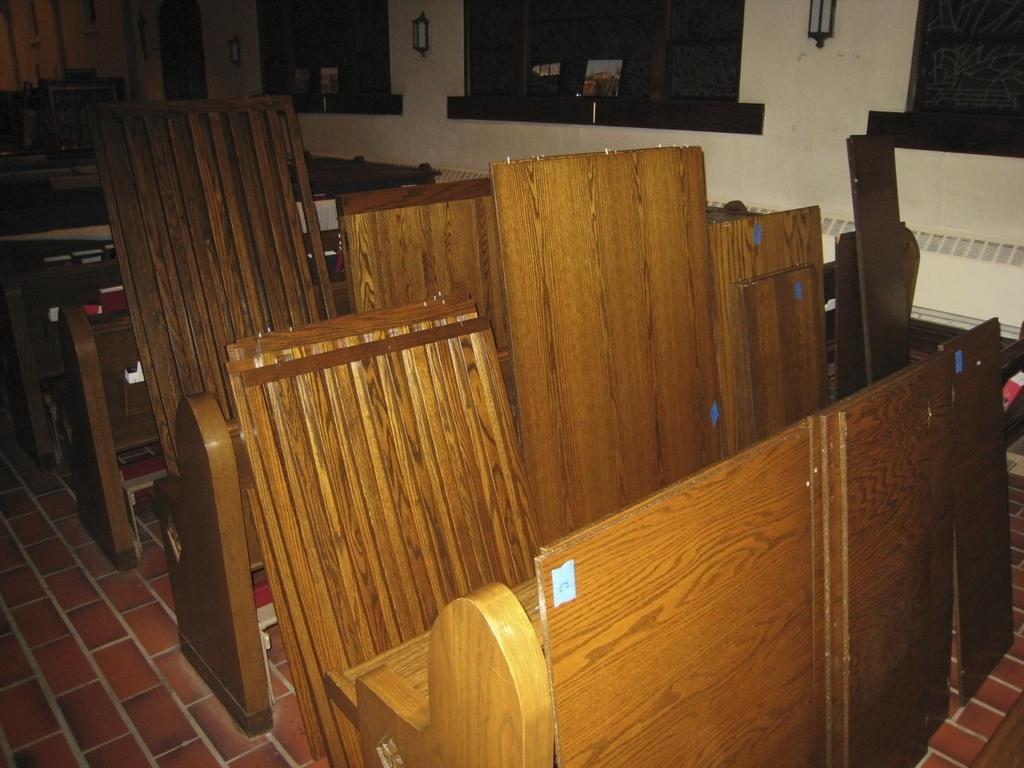Chair: (92, 102, 341, 740)
